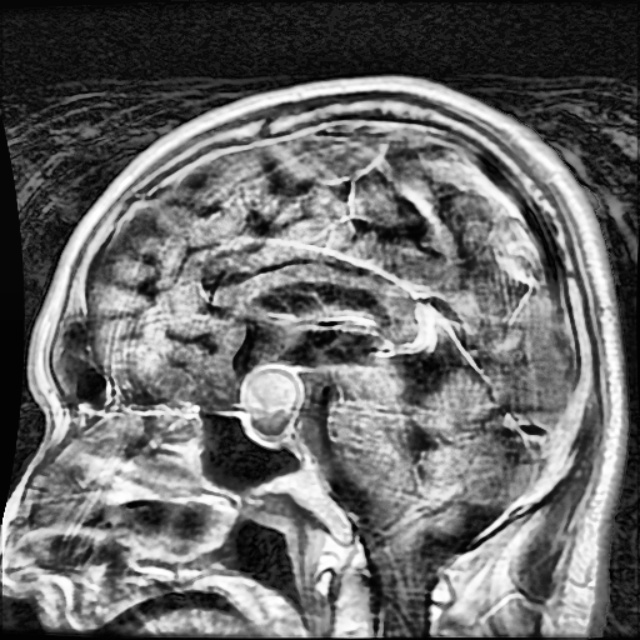Pituitary: (240, 365, 302, 424)
